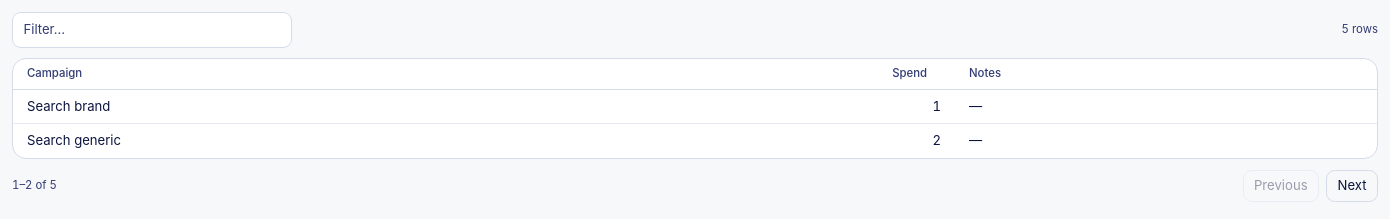
it: DataTable › counts the range against the filtered rows, not the original list
Expected: the text "1–2 of 5" is shown, [12, 178, 57, 194]
In the search field: [152, 30] box [12, 12, 292, 48], type "Search"
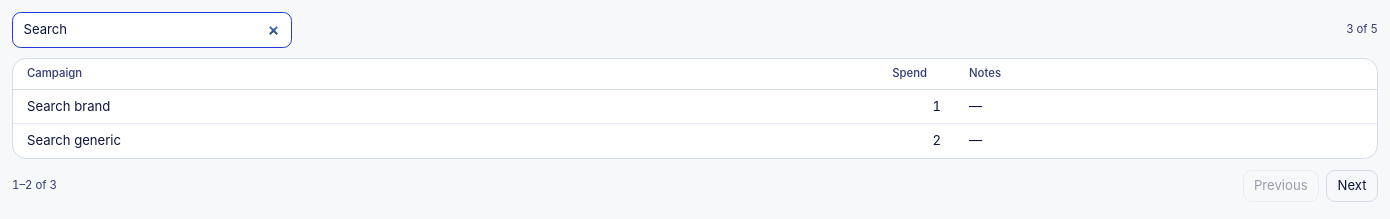
Result: the text "1–2 of 3" is shown at [12, 178, 57, 194]
